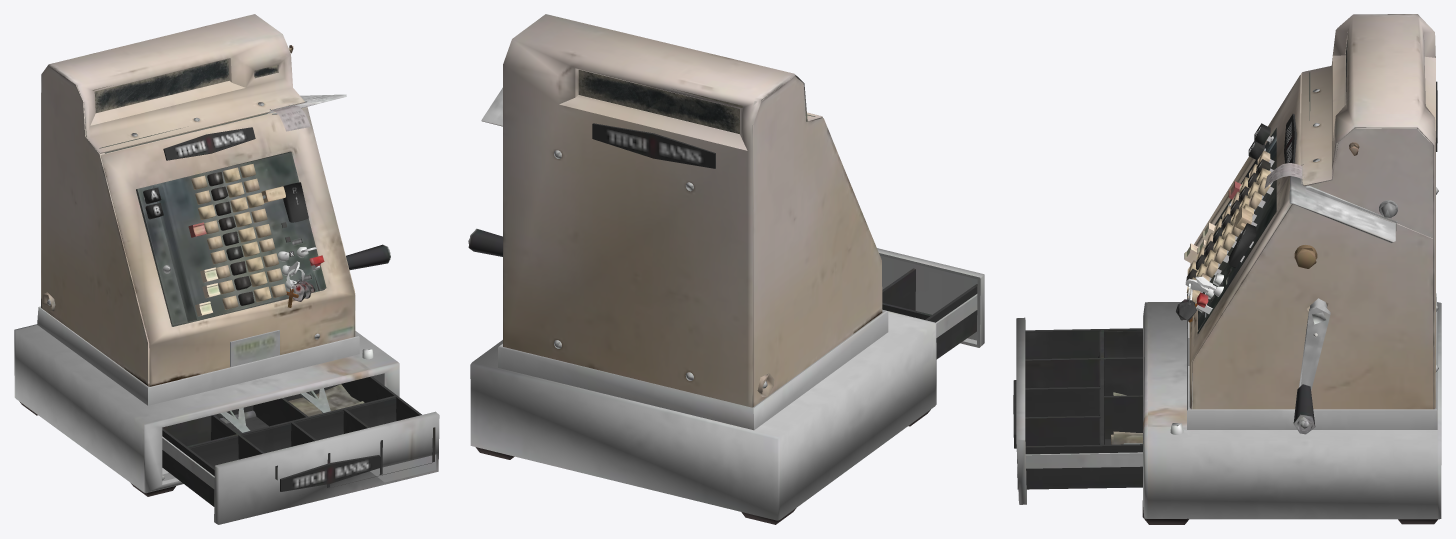
The model's file is shop_cash_register_aaa-f6400a8756b5.glb.
3 renders of one model, left to right at view 1: azimuth 30°, elevation 25°; view 2: azimuth 150°, elevation 25°; view 3: azimuth 270°, elevation 25°, orthographic. The views are drawn at different scales.
Parts seen in each view (by area): view 1: CashRegister_01_body; view 2: CashRegister_01_body; view 3: CashRegister_01_body.
Part boxes in pixels (box(x1,y1,x2,y2)): CashRegister_01_body: box(14, 14, 439, 524); CashRegister_01_body: box(468, 14, 984, 524); CashRegister_01_body: box(1013, 14, 1441, 524).
Bounding box in the file's own units: 0.3665 × 0.3789 × 0.3808.
2 materials, 2 textured.
